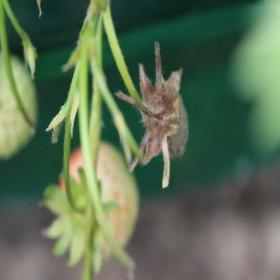Gray Mold: (115, 41, 189, 189)
